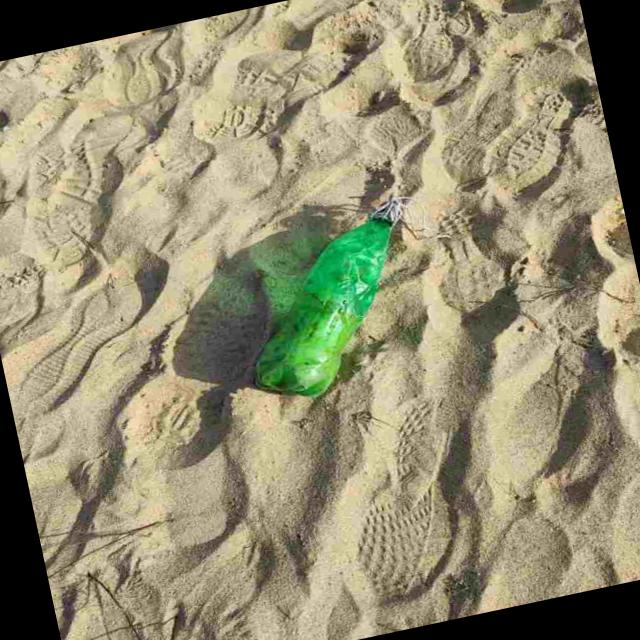chai_nhua: (257, 217, 393, 397)
